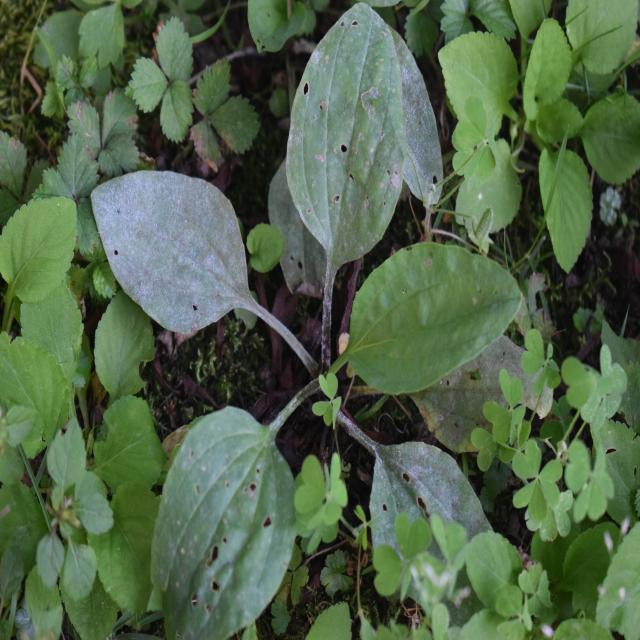plantain: (100, 49, 528, 585)
